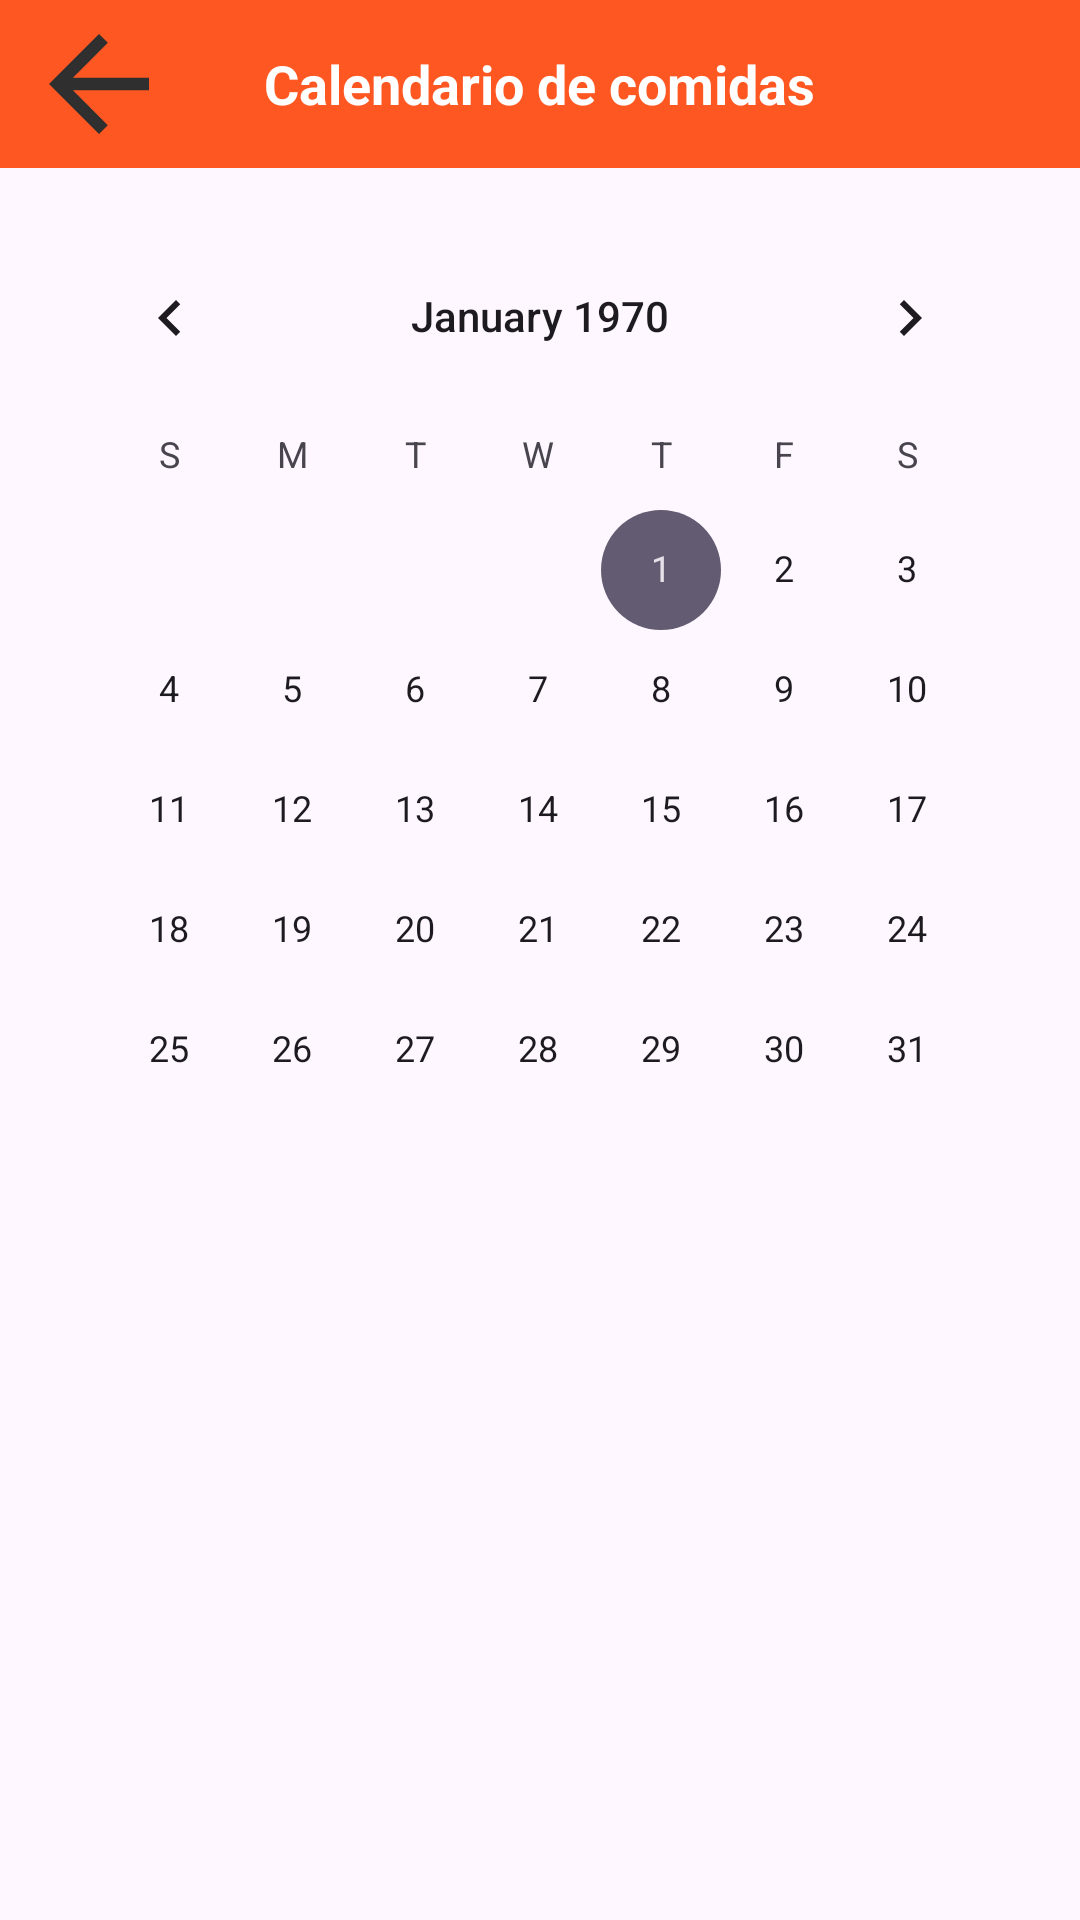

Screen size 1080*1920. Icon name, then its box in pixels as rect(x1, y1, x2, y2):
back arrow: rect(49, 34, 149, 134)
